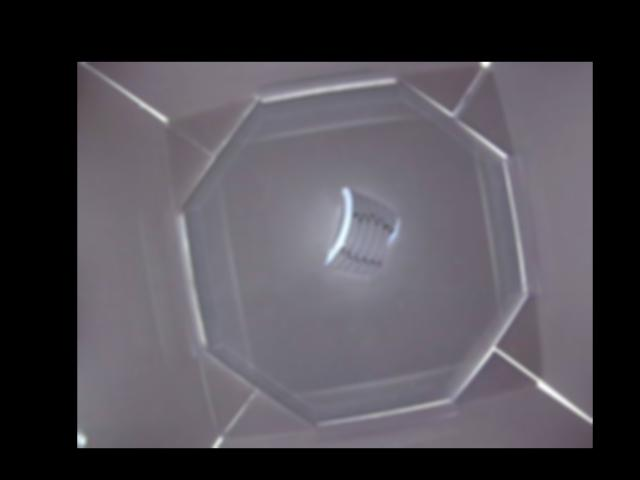China: (326, 187, 401, 276)
